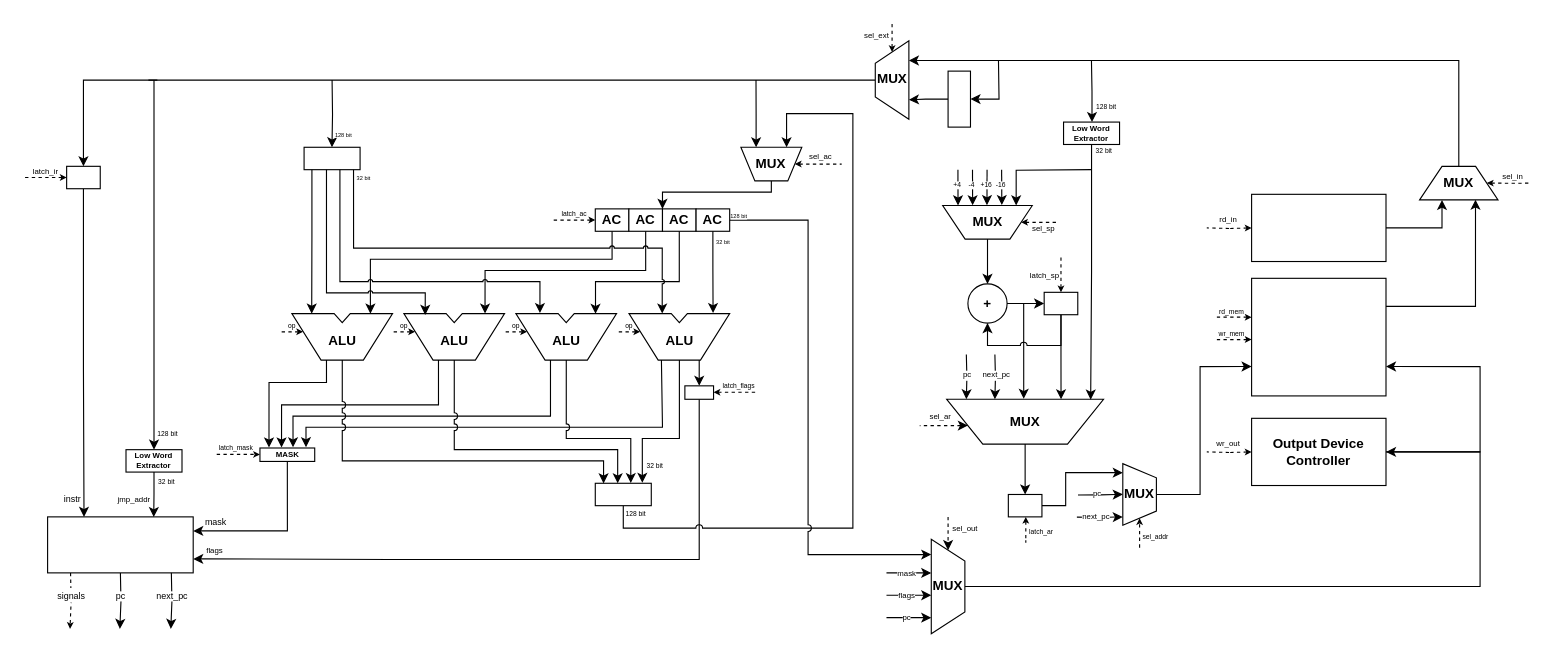
Some shapes in this 1557 by 657 pixel diagram are drawn without their labels. The centre of each missing label's shape, as x and y in pixels:
"AR" goes at (x=1024, y=505).
"Bus Joiner" goes at (x=622, y=494).
"Bus Splitter" goes at (x=331, y=158).
"Control Unit" goes at (x=119, y=544).
"Input Device Controller" goes at (x=1318, y=227).
"IR" goes at (x=83, y=177).
"Low Word Extender" goes at (x=958, y=98).
"Memory" goes at (x=1318, y=336).
"NZVC" goes at (x=699, y=392).
"SP" goes at (x=1060, y=303).
